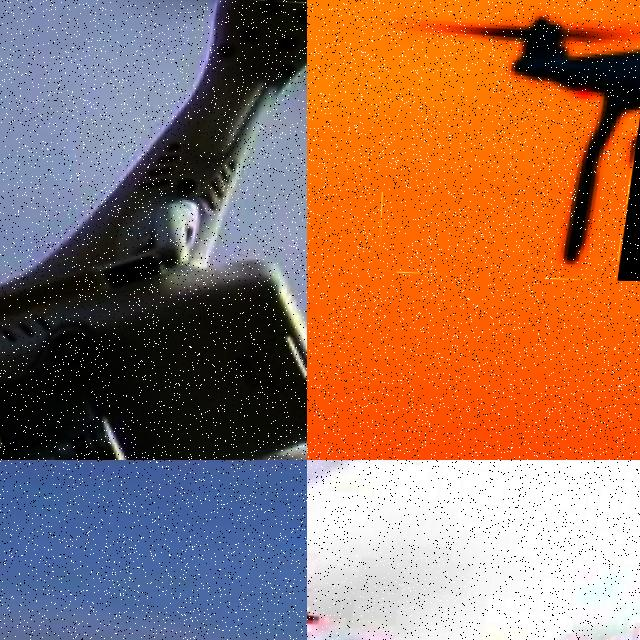drone: (0, 0, 307, 460), (379, 0, 640, 281), (307, 460, 640, 640)
